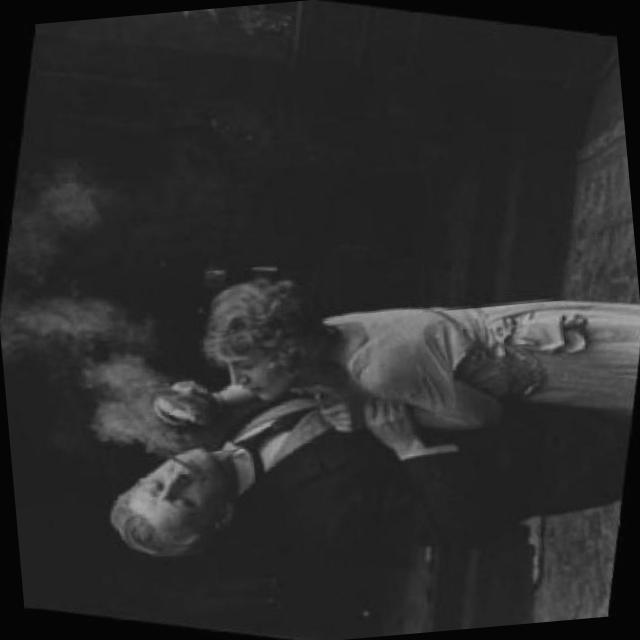cigarette: (162, 448, 192, 468)
